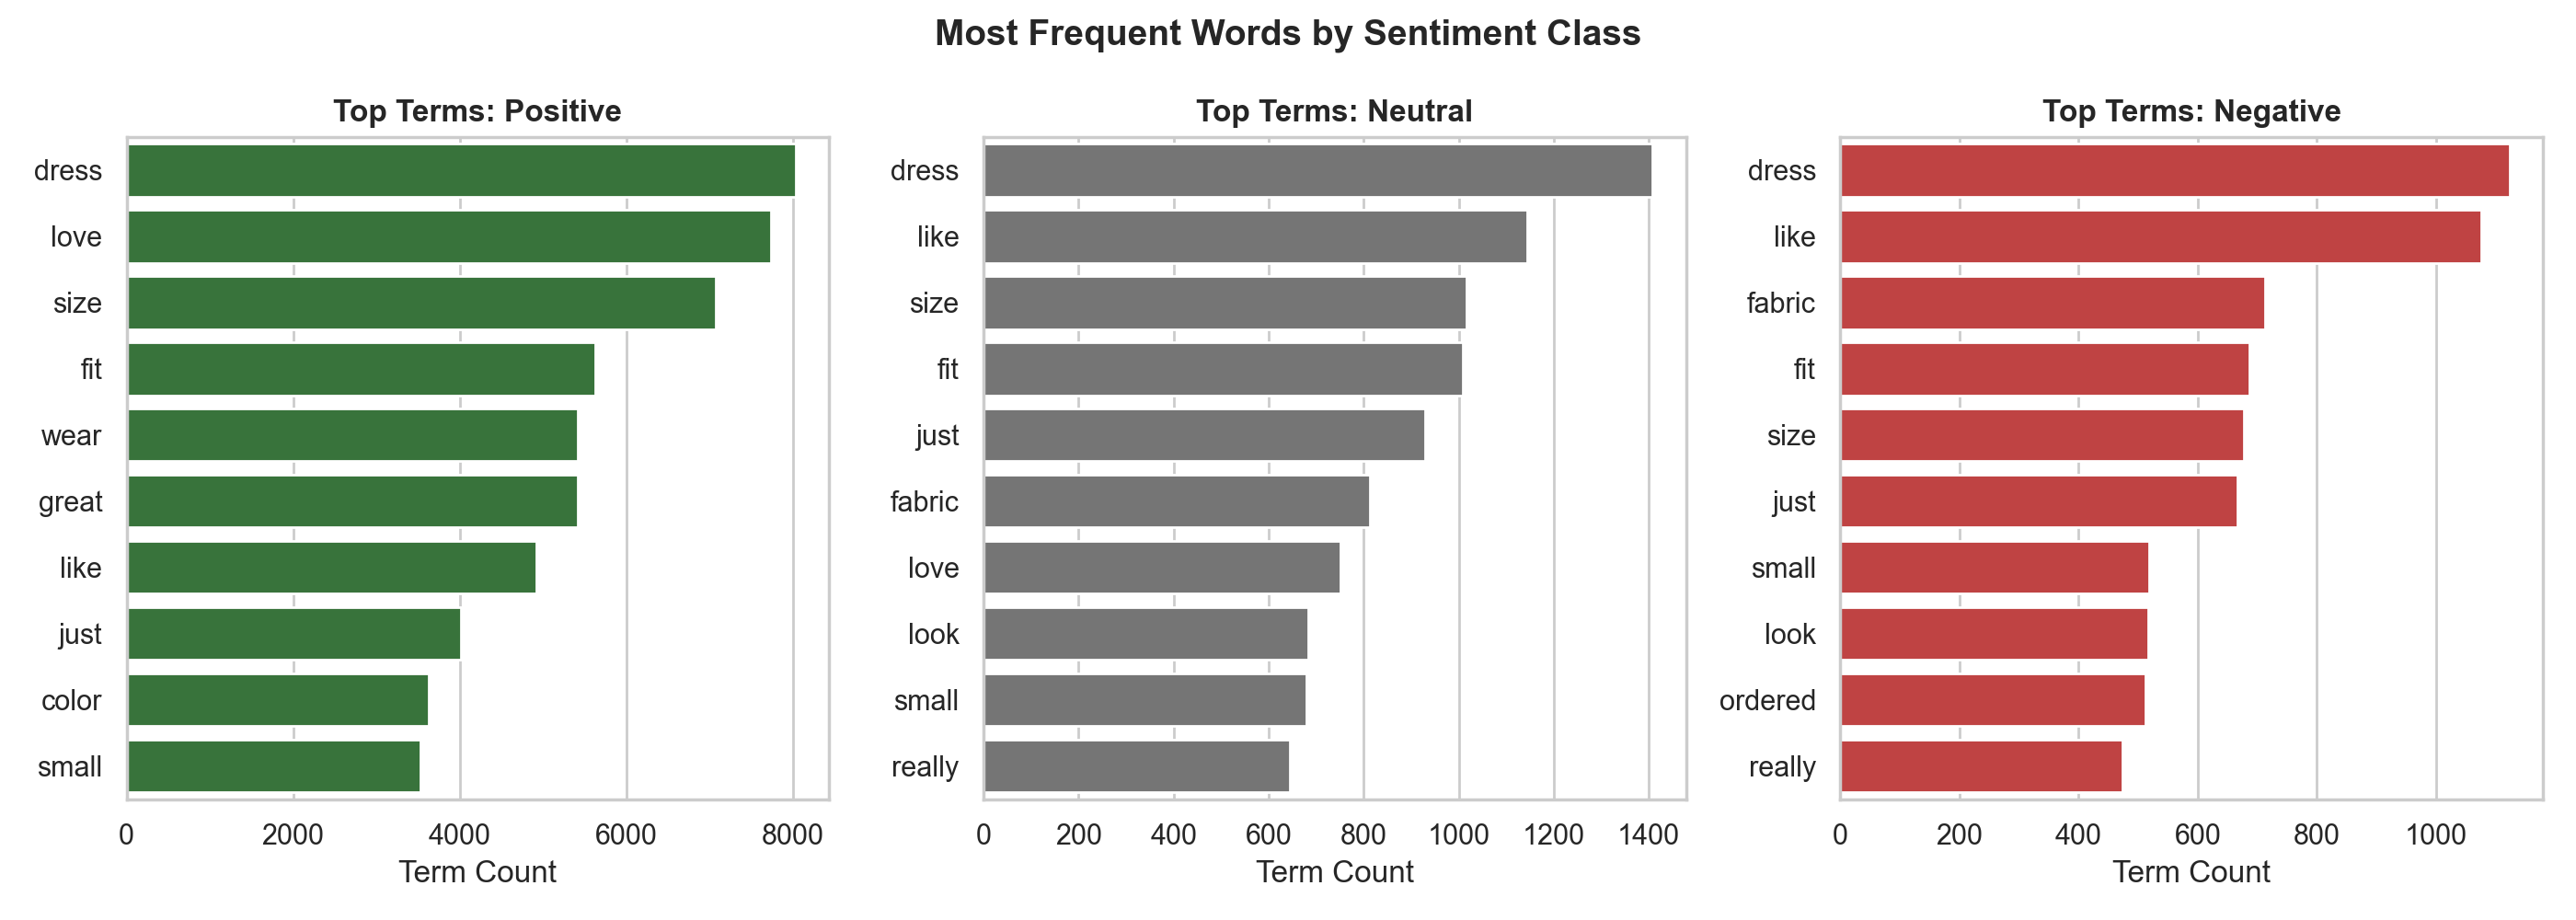

What the dashboard file says about the page in this screenshot:
{"tool":"powerbi","page":{"name":"Text Insights","canvas":[1280,720],"ordinal":2},"visuals":[{"type":"unknown","box":[20,20,580,320],"z":1},{"type":"unknown","box":[620,20,580,320],"z":2},{"type":"unknown","box":[20,360,1180,320],"z":3}]}

Visuals, with their boxes on the page's 1280x720 design canvas (x1, y1, x2, y2). These are canvas units, not pixel positions in the 2576x920 screenshot, which may show the page scaled, cropped or inside an application window:
unknown: [20,20,600,340]
unknown: [620,20,1200,340]
unknown: [20,360,1200,680]
